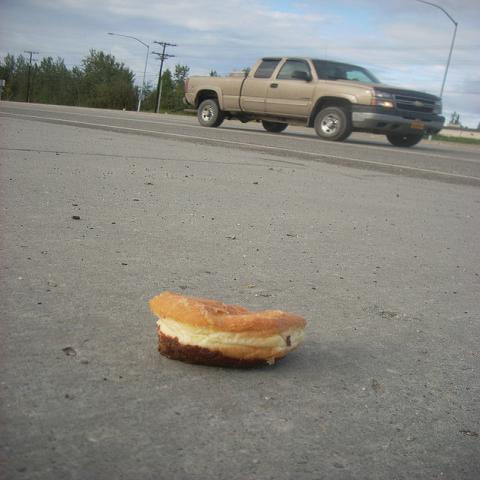truck: (183, 59, 446, 150)
